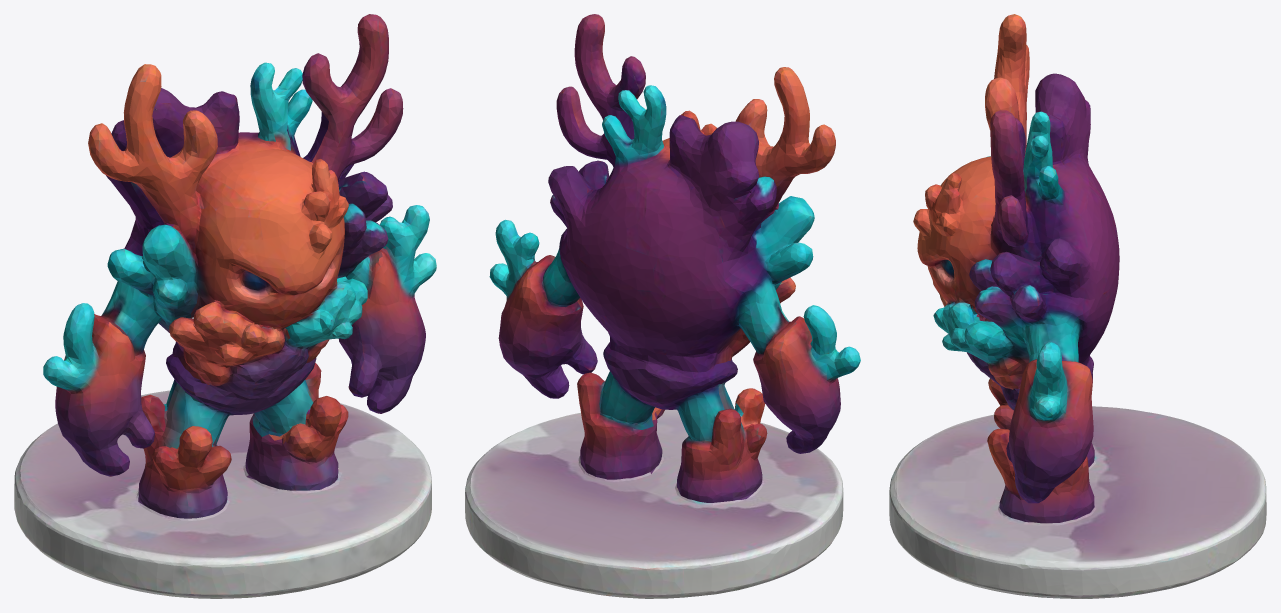
Rendered from fig-46.glb.
3 views of the same model, side by side, from view 1: azimuth 30°, elevation 25°; view 2: azimuth 150°, elevation 25°; view 3: azimuth 270°, elevation 25° (orthographic). The views are drawn at different scales.
Parts seen in each view (by area): view 1: tmp02udw3or.ply; view 2: tmp02udw3or.ply; view 3: tmp02udw3or.ply.
Part boxes in pixels (x1,y1,x2,y2): tmp02udw3or.ply: (14, 14, 436, 598); tmp02udw3or.ply: (465, 14, 860, 598); tmp02udw3or.ply: (889, 14, 1266, 598).
Bounding box in the file's own units: 1.66 × 1.99 × 1.49.
Materials: 1 (1 with a texture image).
